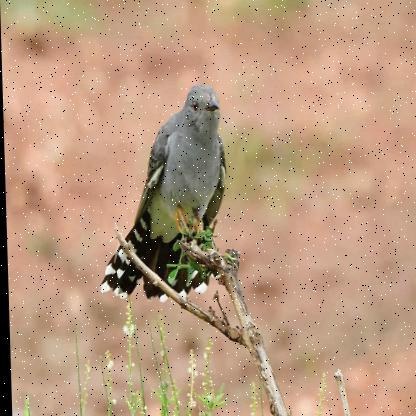Burung: (95, 83, 230, 301)
